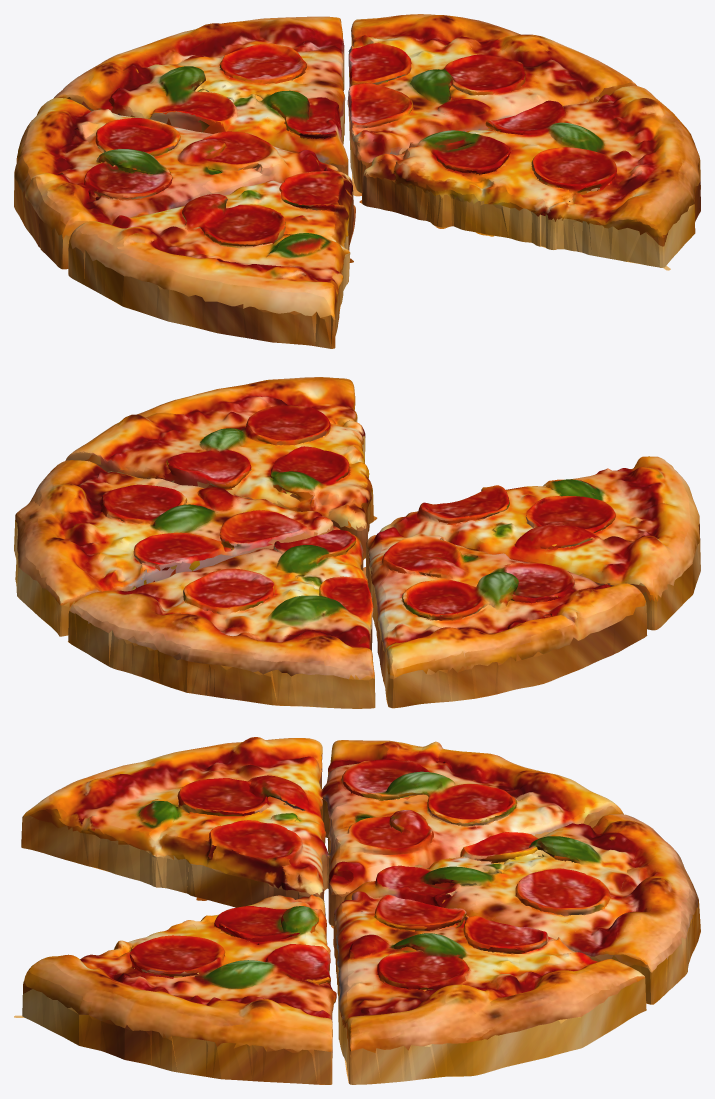
The model's file is pepperoni-pizza-1.glb.
The picture shows the model from 3 angles, top to bottom: view 1: azimuth 30°, elevation 25°; view 2: azimuth 150°, elevation 25°; view 3: azimuth 270°, elevation 25°; orthographic projection. The views are drawn at different scales.
Parts seen in each view (by area): view 1: geometry_0; view 2: geometry_0; view 3: geometry_0.
Boxes of the visible parts, bbox=[...] form: geometry_0: bbox=[14, 14, 700, 348]; geometry_0: bbox=[14, 377, 700, 708]; geometry_0: bbox=[14, 737, 700, 1084].
Size of the model in its own units: 0.3 by 0.0301 by 0.289.
2 materials, 2 textured.
